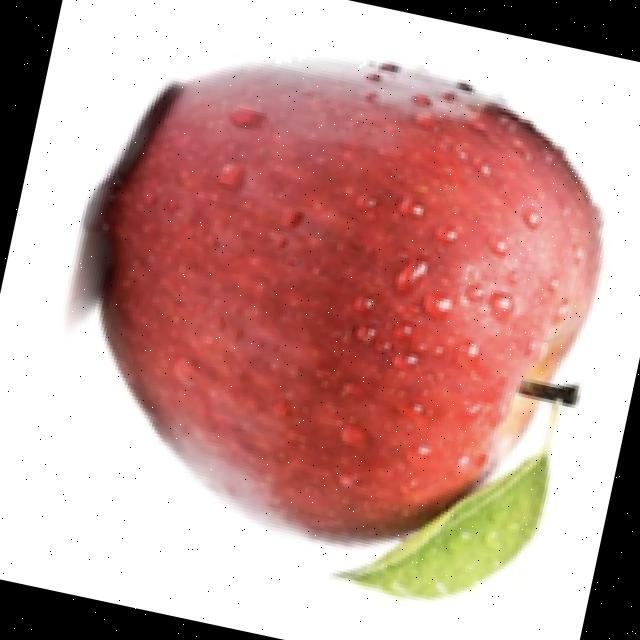apple: (60, 55, 609, 605)
